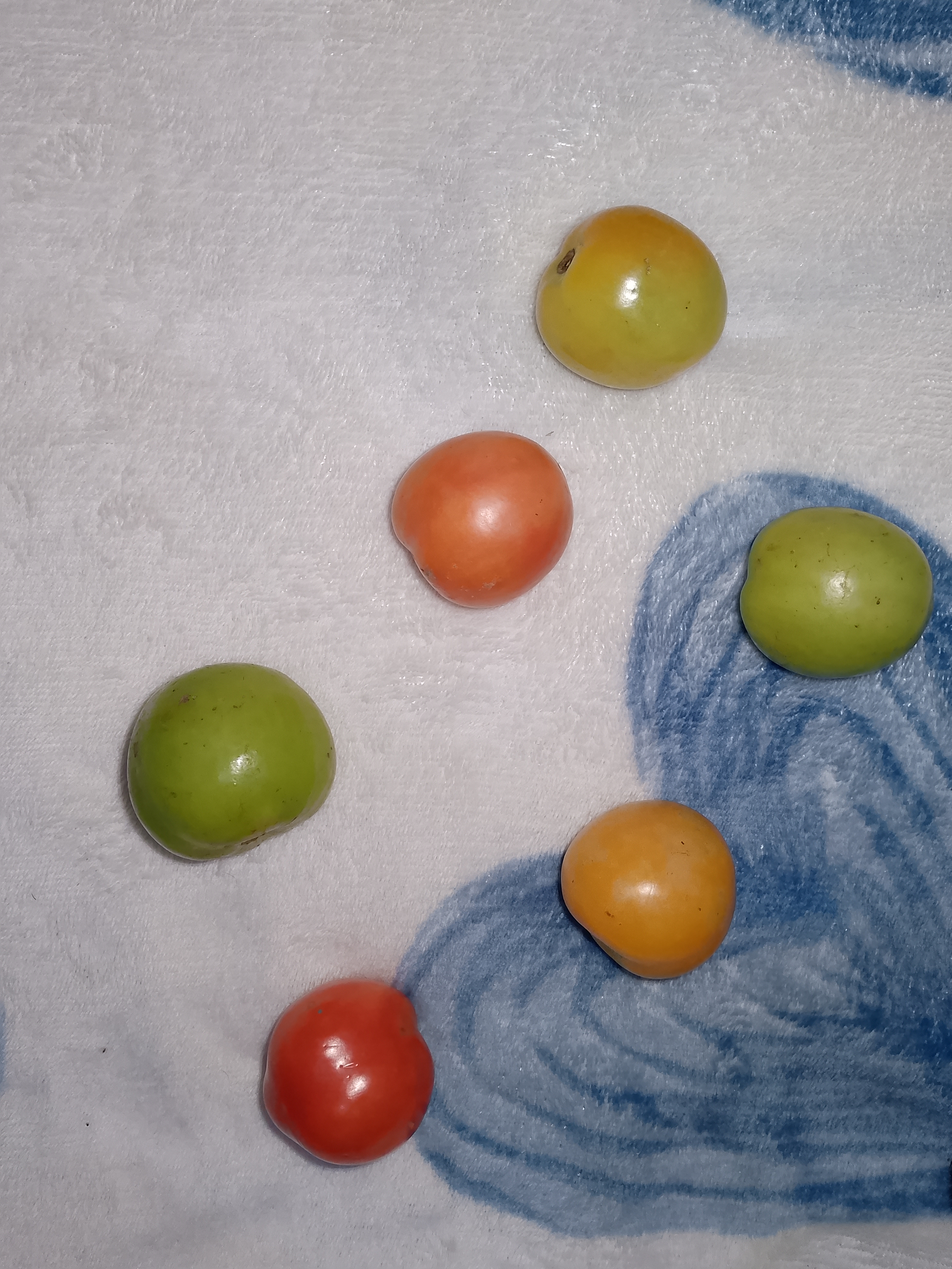Ripe: (197, 955, 496, 1196), (509, 745, 763, 1028), (340, 402, 646, 620)
Unripe: (488, 153, 807, 405), (86, 612, 361, 885), (716, 493, 952, 695)
